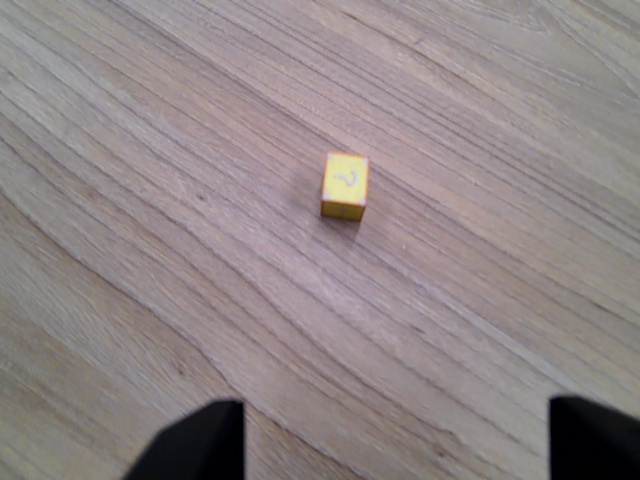lucky: (315, 144, 373, 225)
